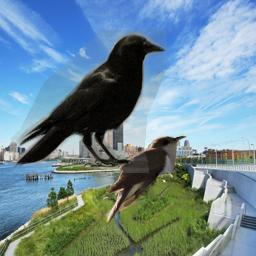Crow: (11, 30, 167, 173)
Cuckoo: (103, 134, 187, 234)
